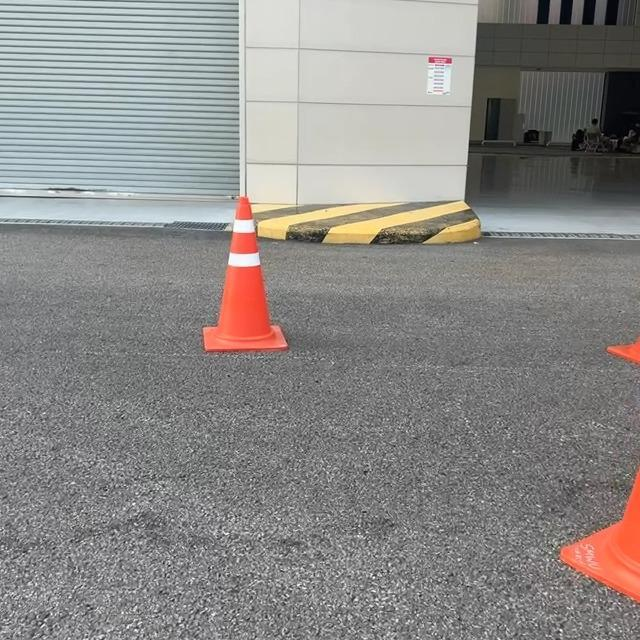fallen_object: (133, 162, 346, 380)
